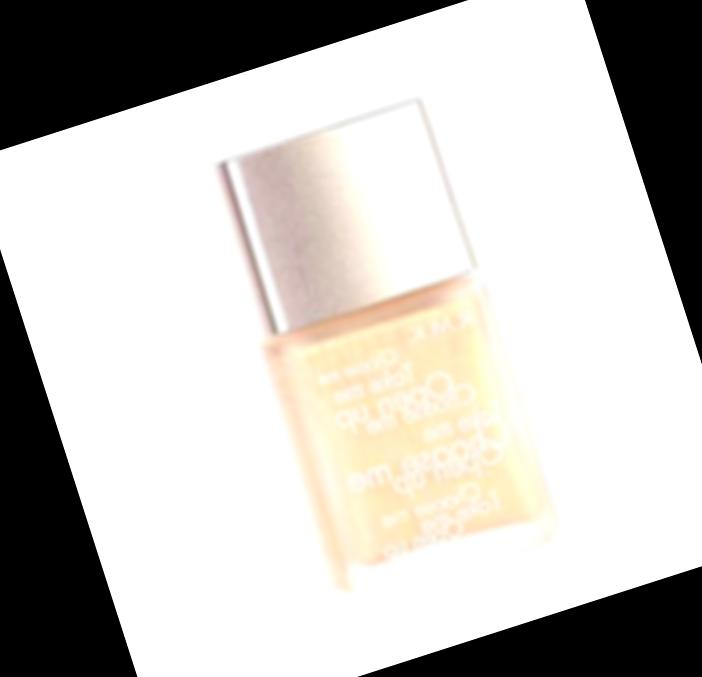cosmetic: (191, 92, 570, 612)
